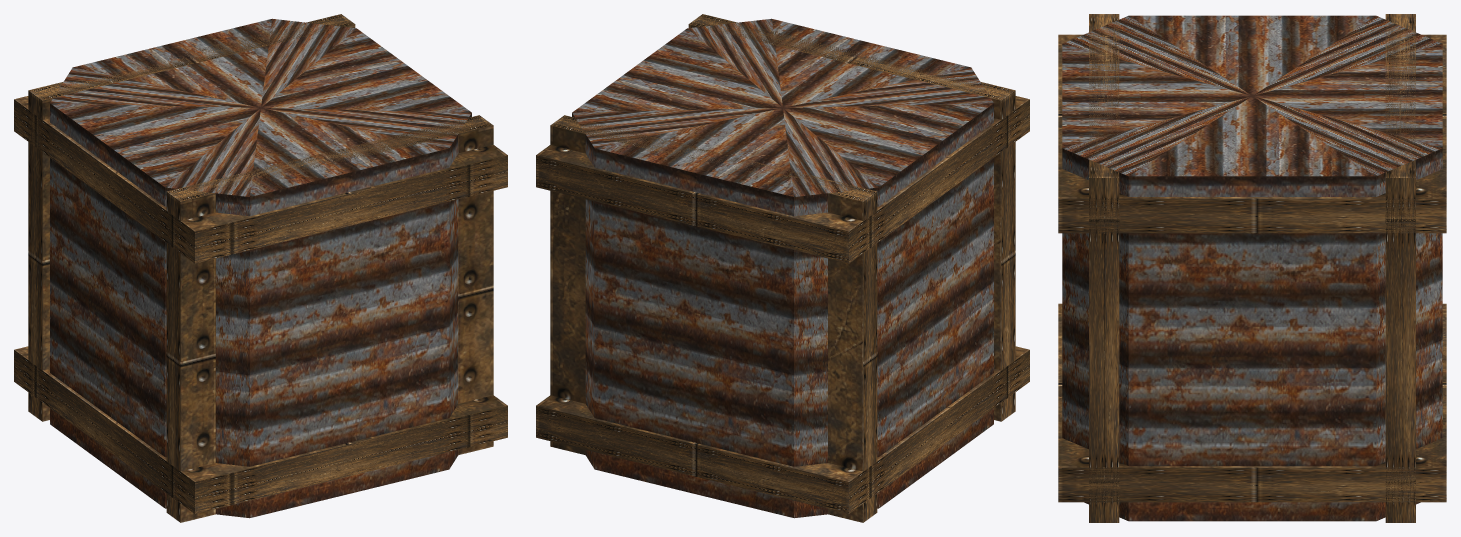
The model's file is crate.obj.
The picture shows the model from 3 angles, left to right: view 1: azimuth 30°, elevation 25°; view 2: azimuth 150°, elevation 25°; view 3: azimuth 270°, elevation 25°; orthographic projection. The views are drawn at different scales.
Parts seen in each view (by area): view 1: crate; view 2: crate; view 3: crate.
Part boxes in pixels (bbox=[...]): crate: bbox=[14, 14, 507, 522]; crate: bbox=[536, 14, 1029, 522]; crate: bbox=[1058, 14, 1446, 522].
Size of the model in its own units: 1.02 by 1 by 1.02.
Materials: 1 (1 with a texture image).
